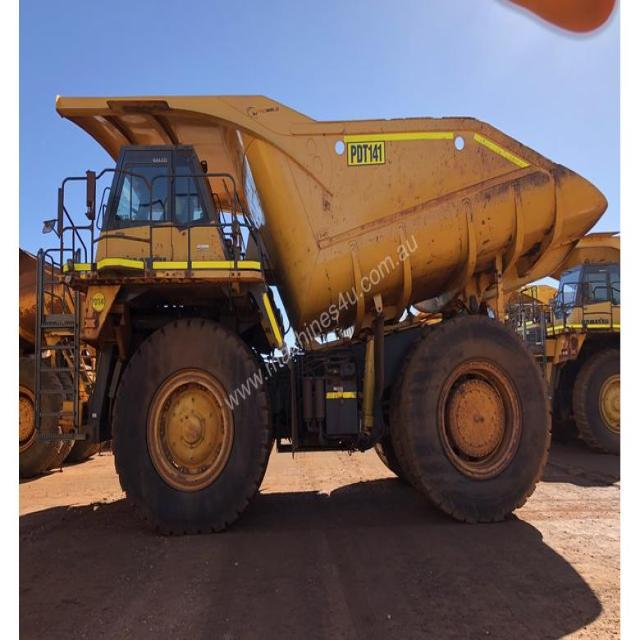dump_truck: (54, 73, 596, 534)
